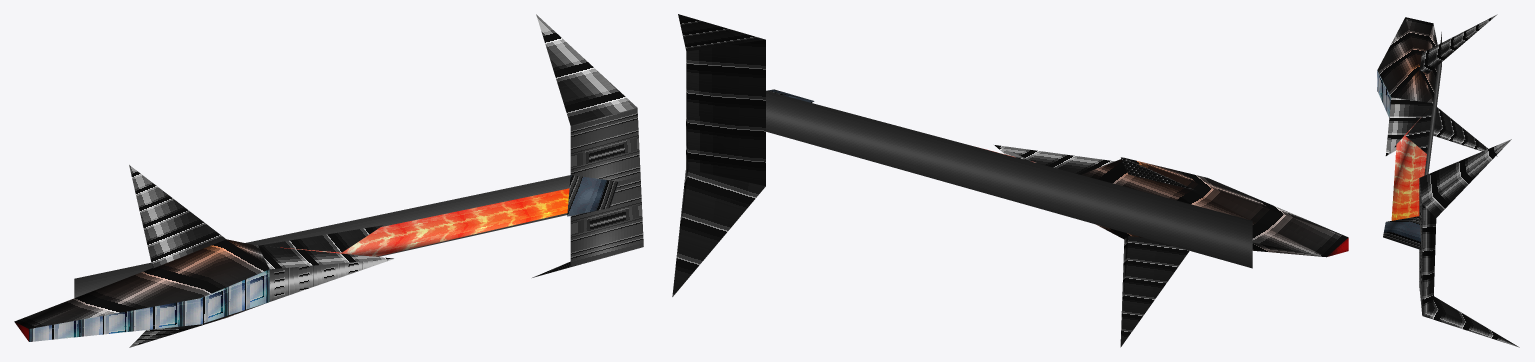
Rendered from 21-laser-tp.glb.
3 renders of one model, left to right at view 1: azimuth 30°, elevation 25°; view 2: azimuth 150°, elevation 25°; view 3: azimuth 270°, elevation 25°, orthographic. The views are drawn at different scales.
Visible parts, largest first — view 1: gun; view 2: gun; view 3: gun.
Part boxes in pixels (x1=…): gun: x1=14, y1=14, x2=643, y2=347; gun: x1=672, y1=14, x2=1348, y2=347; gun: x1=1377, y1=14, x2=1519, y2=347.
Size of the model in its own units: 240 by 98.56 by 61.3.
Materials: 7 (7 with a texture image).
